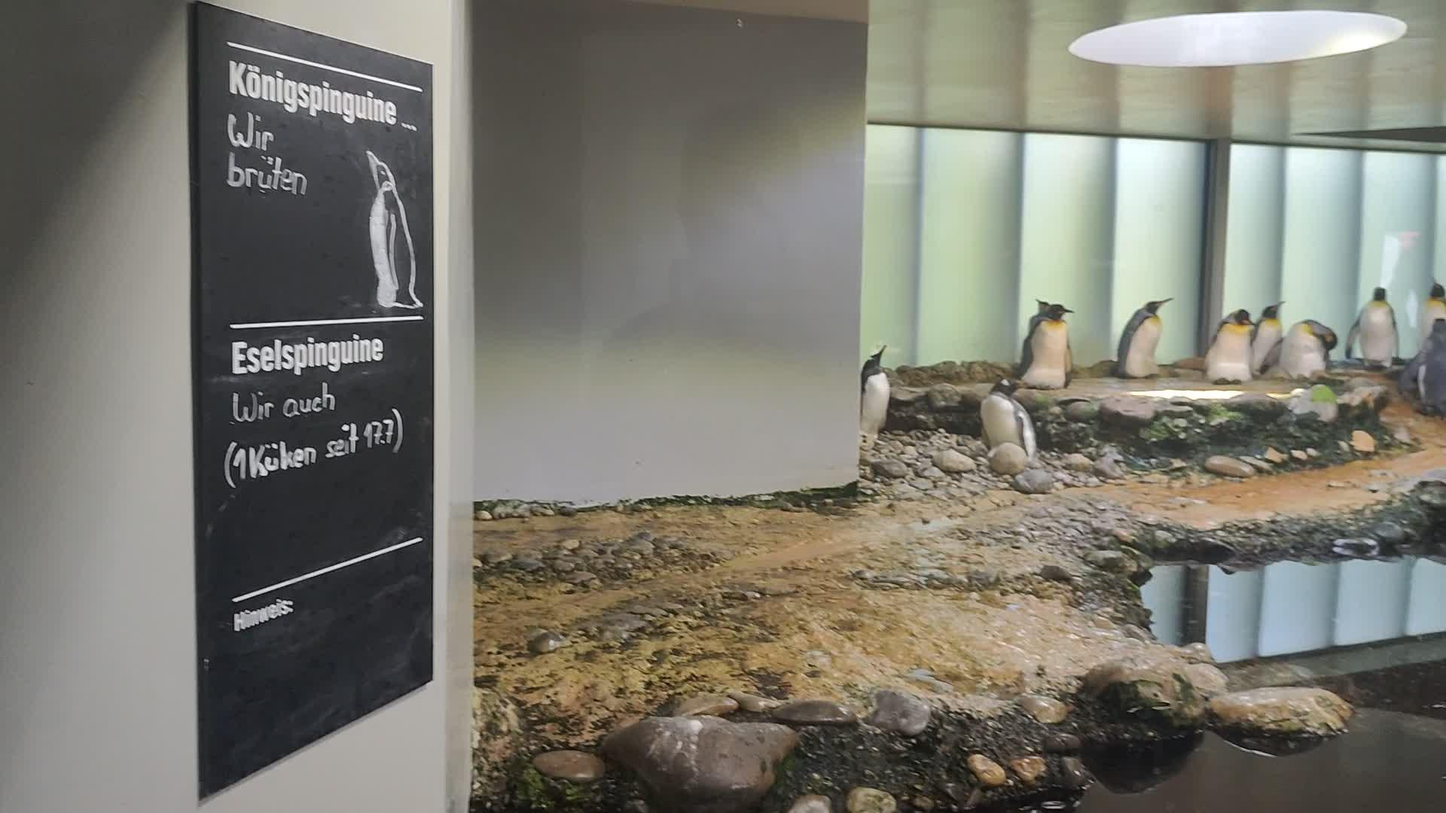apple: (365, 150, 423, 309), (1398, 318, 1446, 421), (1018, 304, 1075, 390), (1115, 298, 1174, 379), (1259, 319, 1337, 380), (1345, 286, 1399, 371), (980, 379, 1036, 458), (1205, 309, 1256, 385), (861, 345, 890, 440), (1250, 301, 1285, 375), (1417, 282, 1446, 348)
